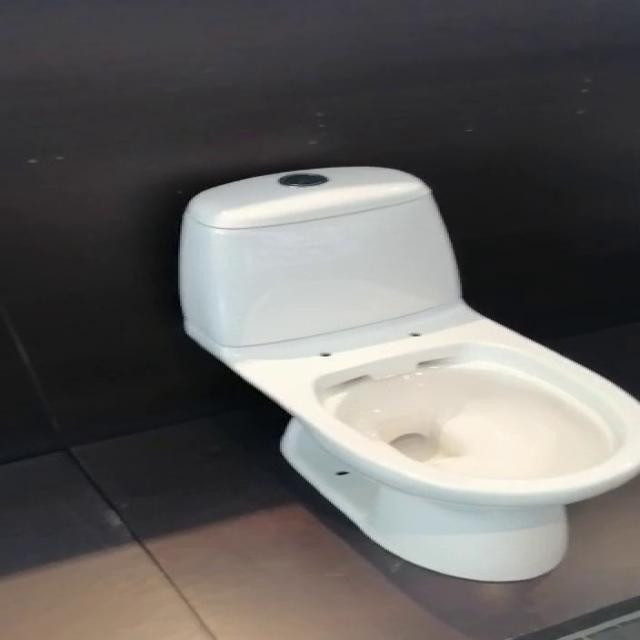toilet: (176, 164, 638, 582)
